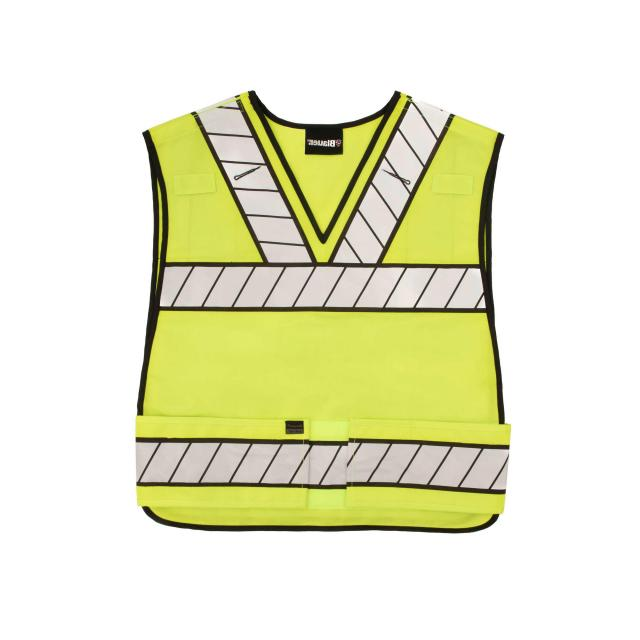Reflective-Jacket: (80, 76, 544, 548)
